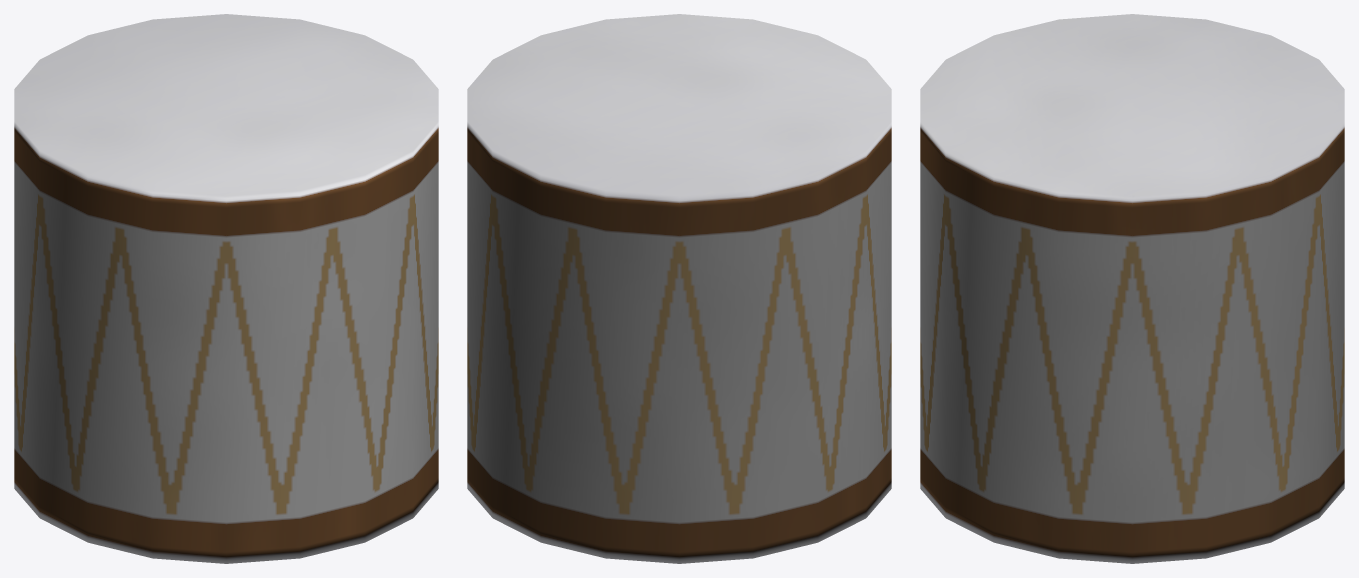
Rendered from tambour.glb.
3 views of the same model, side by side, from view 1: azimuth 30°, elevation 25°; view 2: azimuth 150°, elevation 25°; view 3: azimuth 270°, elevation 25° (orthographic).
Visible parts, largest first — view 1: tambour; view 2: tambour; view 3: tambour.
Part boxes in pixels (x1,y1,x2,y2): tambour: [14, 14, 438, 563]; tambour: [467, 14, 891, 563]; tambour: [920, 14, 1344, 563].
Bounding box in the file's own units: 0.34 × 0.32 × 0.3348.
Materials: 1 (1 with a texture image).
